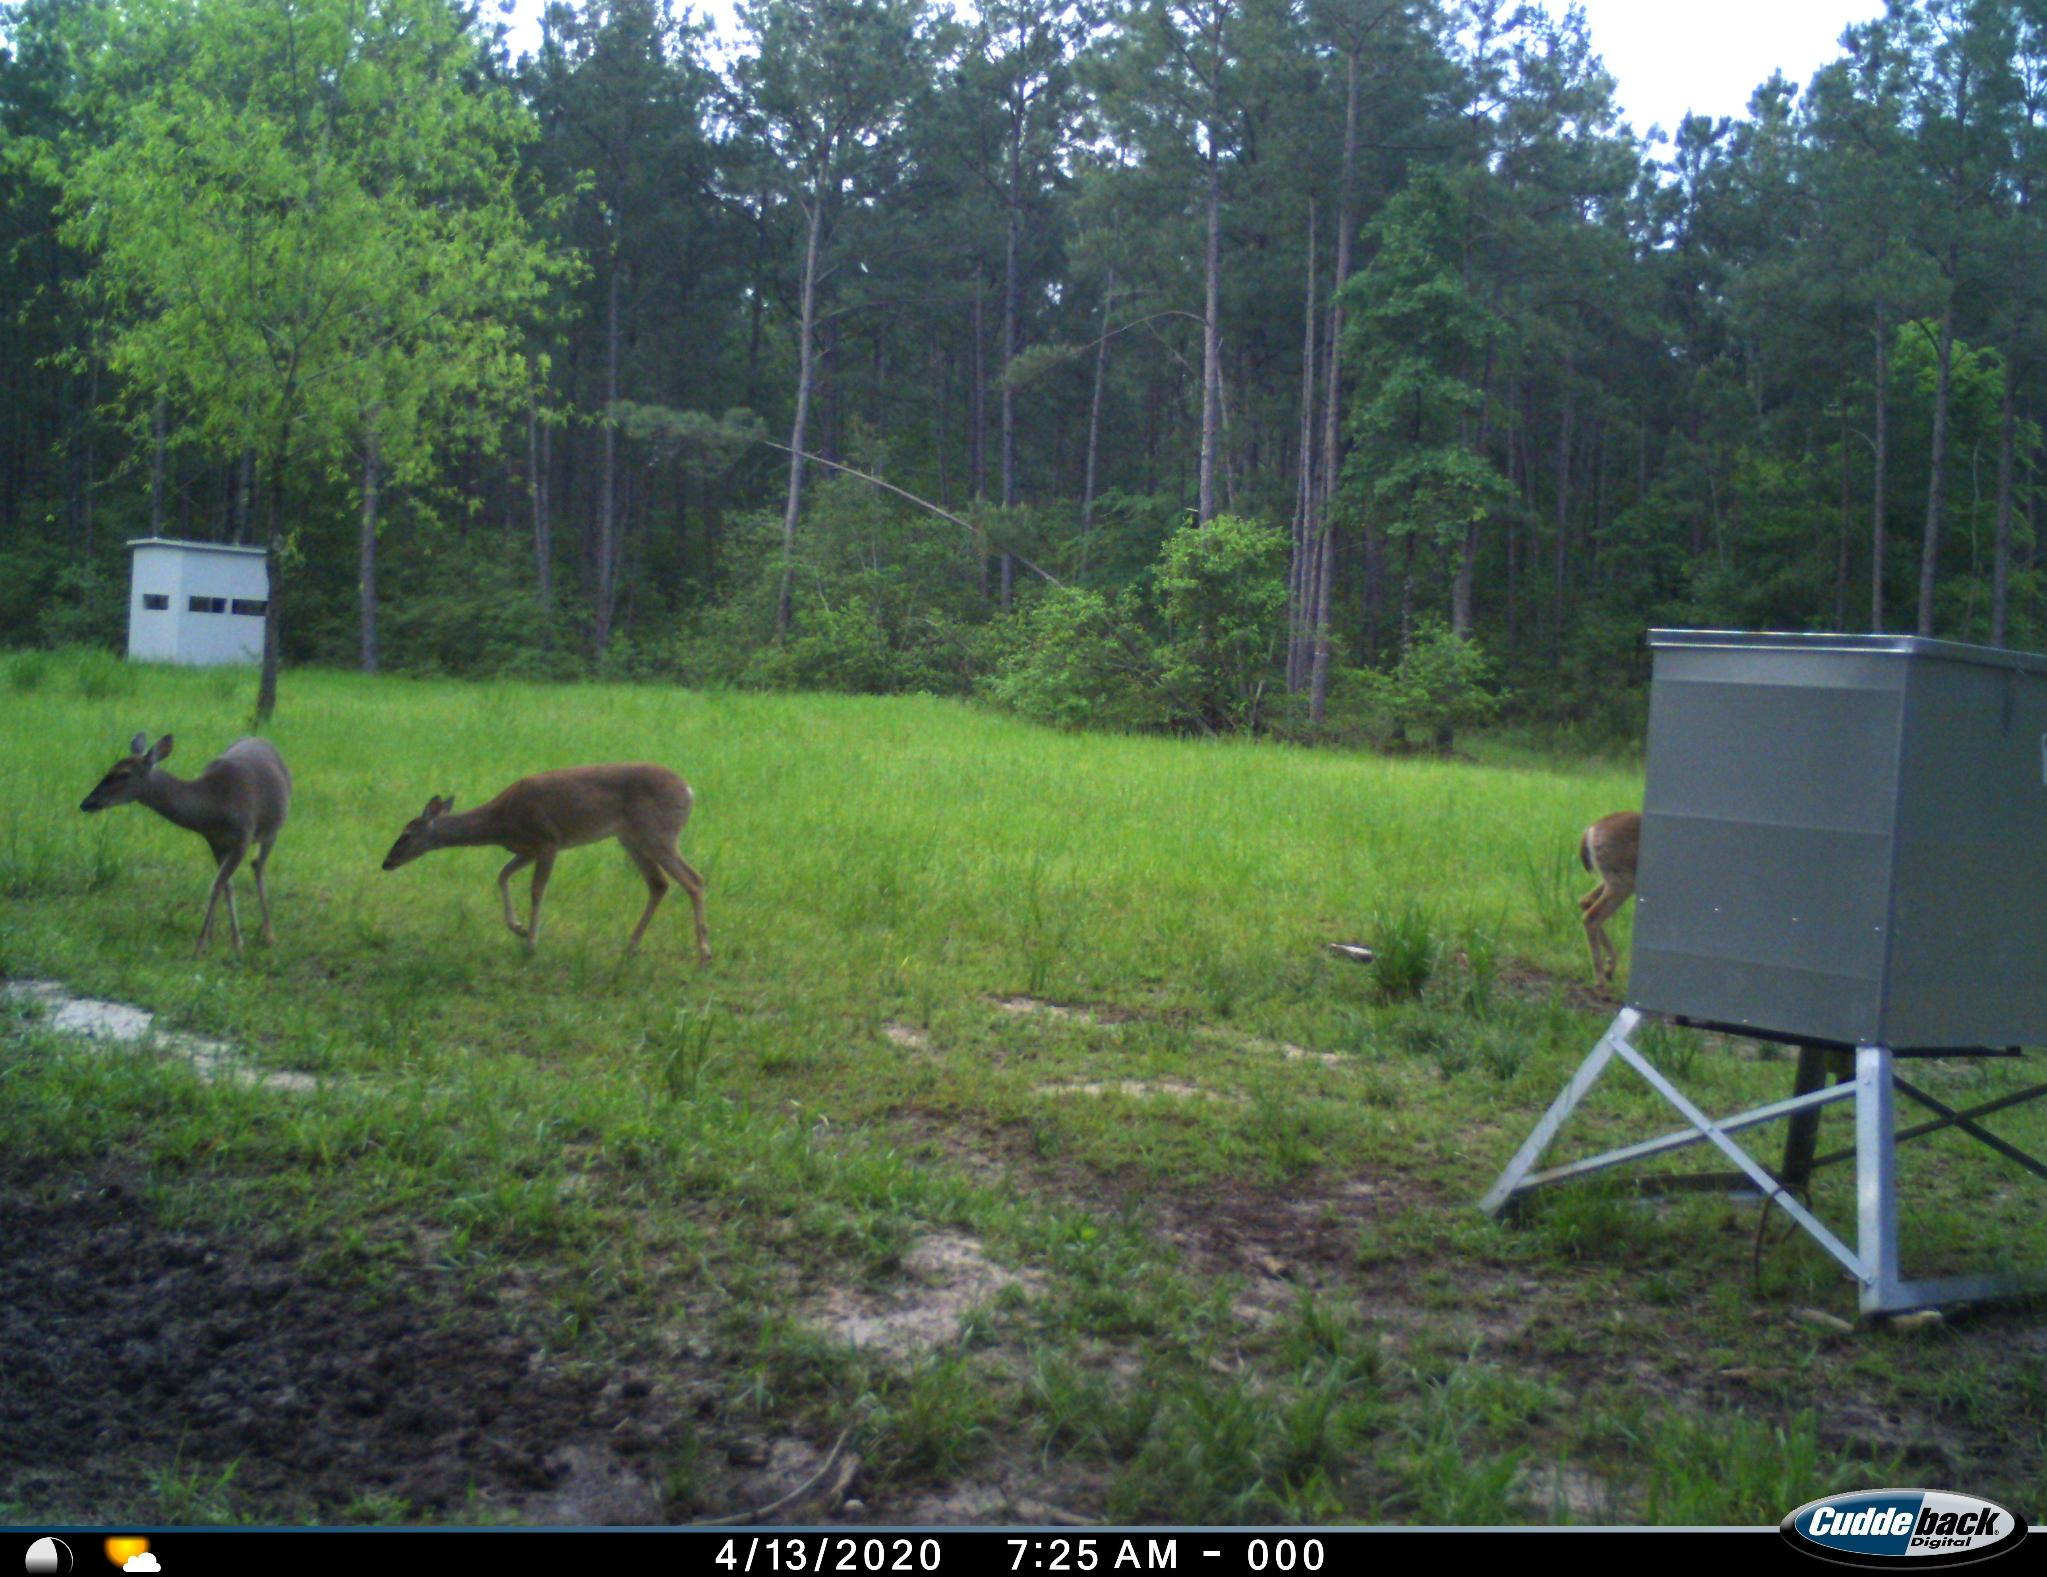Deer: (376, 754, 727, 996), (75, 722, 315, 972), (1573, 795, 1641, 997)
